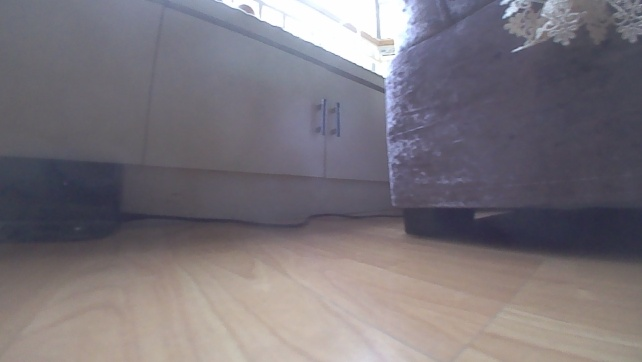sofa1: (379, 0, 641, 240)
wire: (123, 208, 400, 229)
